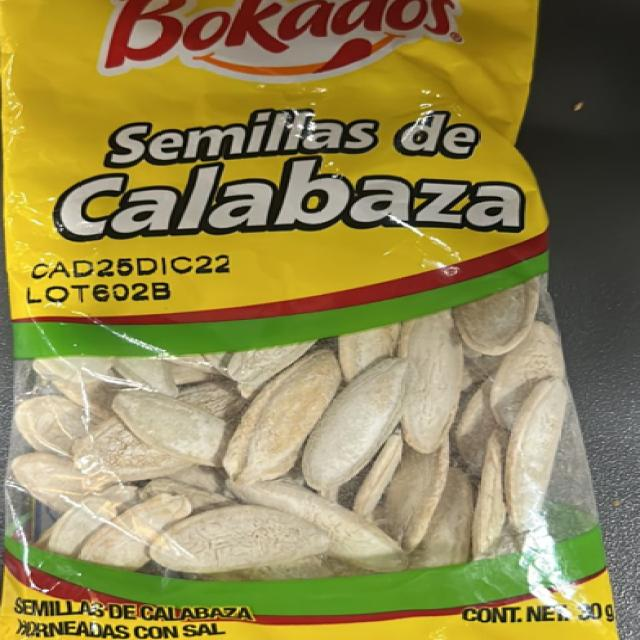semillasCalabaza: (4, 0, 539, 640)
